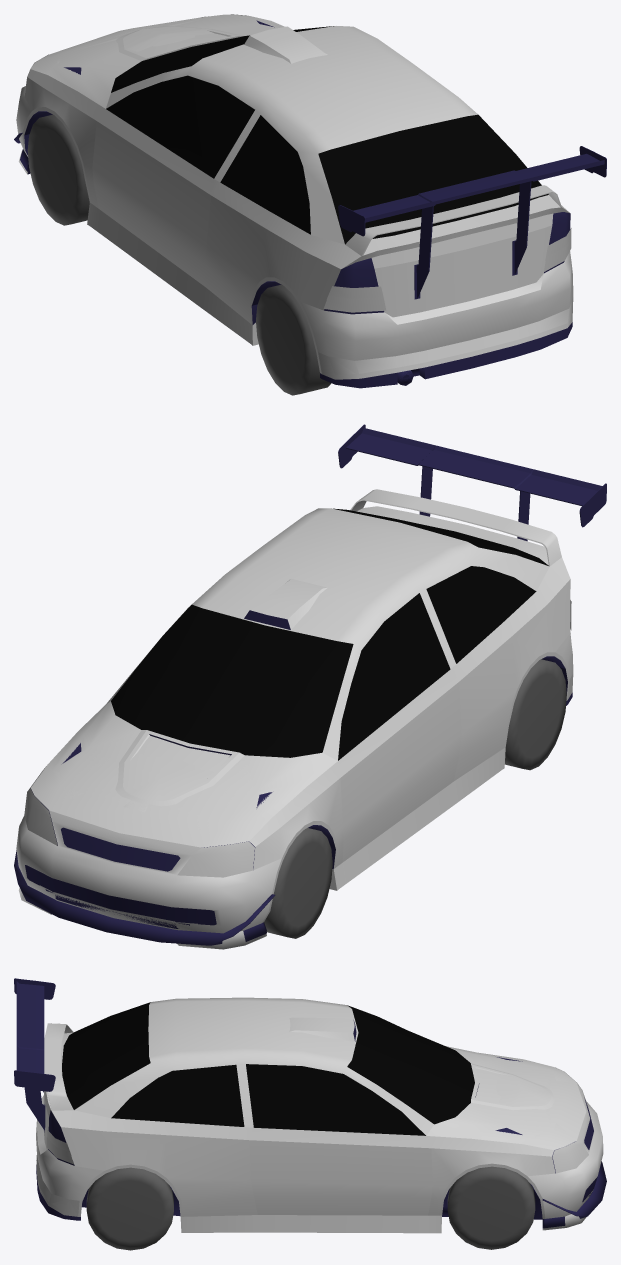
File: Astra.fbx
The picture shows the model from 3 angles, top to bottom: view 1: azimuth 30°, elevation 25°; view 2: azimuth 150°, elevation 25°; view 3: azimuth 270°, elevation 25°; orthographic projection. The views are drawn at different scales.
Visible parts, largest first — view 1: Astra, Kit1, Kit3, Spoiler2, Wheel3FR, Wheel1RR, Spoiler1, BrakeLightGlow, ReverseLightGlow, Kit2; view 2: Astra, Kit1, Kit3, Spoiler2, Kit2, Wheel3FR, Wheel1RR, Spoiler1, HeadLightGlow; view 3: Astra, Kit1, Kit3, Wheel3FL, Wheel1RL, Spoiler2, Spoiler1, Kit2, HeadLightGlow.
Boxes of the visible parts, left/top/right/bottom form: Astra: left=22, top=26, right=570, bottom=373; Kit1: left=16, top=14, right=573, bottom=378; Kit3: left=14, top=15, right=573, bottom=388; Spoiler2: left=338, top=146, right=606, bottom=299; Wheel3FR: left=256, top=284, right=331, bottom=395; Wheel1RR: left=27, top=116, right=89, bottom=225; Spoiler1: left=345, top=185, right=561, bottom=256; BrakeLightGlow: left=323, top=237, right=571, bottom=312; ReverseLightGlow: left=326, top=228, right=571, bottom=299; Kit2: left=18, top=15, right=413, bottom=385; Astra: left=29, top=506, right=570, bottom=922; Kit1: left=16, top=630, right=573, bottom=941; Kit3: left=14, top=578, right=573, bottom=945; Spoiler2: left=338, top=424, right=606, bottom=541; Kit2: left=18, top=731, right=266, bottom=949; Wheel3FR: left=505, top=659, right=566, bottom=770; Wheel1RR: left=276, top=828, right=332, bottom=938; Spoiler1: left=350, top=489, right=561, bottom=566; HeadLightGlow: left=24, top=788, right=254, bottom=877; Astra: left=43, top=997, right=575, bottom=1219; Kit1: left=36, top=1046, right=601, bottom=1228; Kit3: left=36, top=1017, right=606, bottom=1233; Wheel3FL: left=86, top=1167, right=173, bottom=1250; Wheel1RL: left=447, top=1167, right=534, bottom=1249; Spoiler2: left=14, top=978, right=55, bottom=1132; Spoiler1: left=44, top=1023, right=73, bottom=1110; Kit2: left=472, top=1060, right=603, bottom=1230; HeadLightGlow: left=552, top=1067, right=588, bottom=1173.
Size of the model in its own units: 106 by 90.55 by 272.
